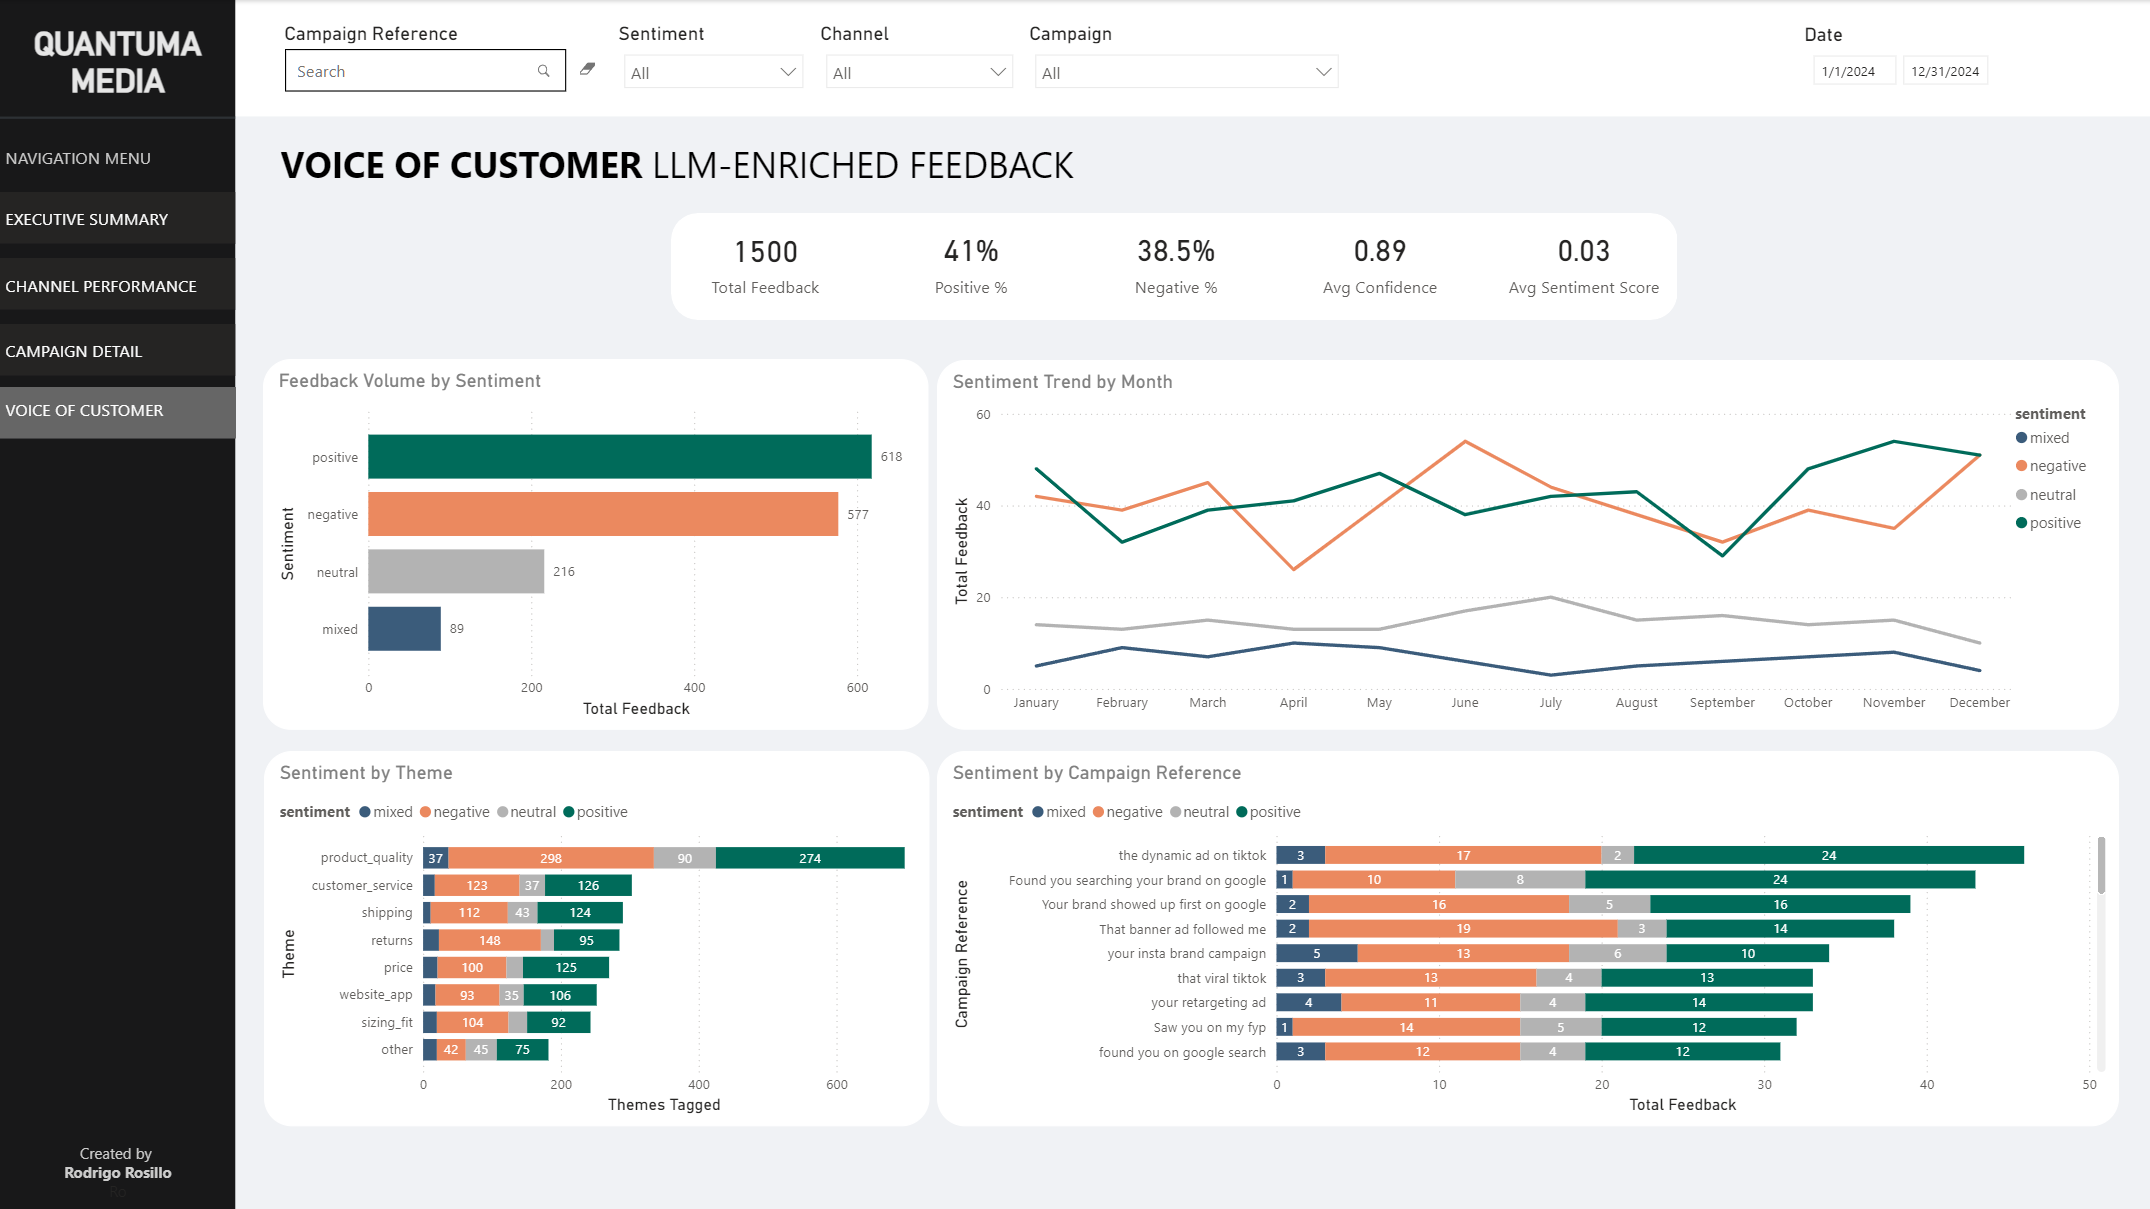

What the dashboard file says about the page in this screenshot:
{"tool":"powerbi","page":{"name":"Voice of customer","canvas":[1920,1080],"ordinal":3},"visuals":[{"type":"shape","box":[599.2,190.2,898.4,95.6],"z":0},{"type":"shape","box":[0,0,1920.6,103.9],"z":1000},{"type":"shape","box":[0,0,210.2,1080.3],"z":2000},{"type":"shape","box":[0,83.8,210.4,42.3],"z":3000},{"type":"textbox","box":[245.1,118.9,1330.8,63.6],"z":4000},{"type":"textFilter25A4896A83E0487089E2B90C9AE57C8A","title":"Campaign Reference","fields":{"field":["fct_feedback.campaign_reference"]},"box":[248.9,19.8,299,85.6],"z":5000},{"type":"slicer","title":"Sentiment","fields":{"Values":["fct_feedback.sentiment"]},"box":[547.5,19.8,179.9,72.5],"z":6000},{"type":"slicer","title":"Campaign","fields":{"Values":["fct_feedback.resolved_campaign_id"]},"box":[914.4,19.4,291.3,72.8],"z":7000},{"type":"slicer","title":"Channel","fields":{"Values":["fct_feedback.source_channel"]},"box":[727.3,19.4,187.1,72.8],"z":8000},{"type":"textbox","box":[0,124.6,210.5,34.2],"z":9000},{"type":"shape","box":[0,171.3,210.5,46],"z":10000},{"type":"textbox","title":"(2) Pages 1 - TXT 1","box":[0,179.7,210.6,37.1],"z":11000},{"type":"shape","box":[0,230.4,210.5,46],"z":12000},{"type":"textbox","title":"(2) Pages 1 - TXT 1","box":[0,238.8,210.6,37.1],"z":13000},{"type":"shape","title":"(2) Pages 2 - Click","box":[0,171.4,211.1,46.1],"z":14000},{"type":"shape","box":[0,289.1,210.5,46],"z":15000},{"type":"textbox","title":"(2) Pages 1 - TXT 1","box":[0,297.5,210.6,37.1],"z":16000},{"type":"shape","title":"(2) Pages 2 - Click","box":[0,228.5,209.8,47.3],"z":17000},{"type":"slicer","title":"Date","fields":{"Values":["FCT_AD_SPEND.DATE"]},"box":[1605.9,20.6,314.1,105],"z":18000},{"type":"textbox","box":[0,1015.5,210.5,64.5],"z":20000},{"type":"textbox","box":[0,0,210.2,105.1],"z":21000},{"type":"card","fields":{"Values":["fct_feedback.Positive %"]},"box":[781.7,185.5,169.9,94],"z":22000},{"type":"card","fields":{"Values":["fct_feedback.Total Feedback"]},"box":[599.2,184.4,168.6,96.1],"z":23000},{"type":"card","fields":{"Values":["fct_feedback.Negative %"]},"box":[965.6,184.6,168.1,95.8],"z":24000},{"type":"card","fields":{"Values":["fct_feedback.Avg Sentiment Confidence"]},"box":[1147.7,184.6,168.1,95.8],"z":25000},{"type":"card","fields":{"Values":["fct_feedback.Avg Sentiment Score"]},"box":[1329.8,184.7,168.2,95.6],"z":26000},{"type":"clusteredBarChart","title":"Feedback Volume by Sentiment","fields":{"Category":["fct_feedback.sentiment"],"Y":["fct_feedback.Total Feedback"]},"box":[234.7,320.2,594.5,330.6],"z":27000},{"type":"lineChart","title":"Sentiment Trend by Month","fields":{"Y":["fct_feedback.Total Feedback"],"Series":["fct_feedback.sentiment"],"Category":["fct_feedback.posted_date.Variation.Date Hierarchy.Month"]},"box":[836.4,321.2,1055.4,329.6],"z":28000},{"type":"barChart","title":"Sentiment by Theme","fields":{"Category":["fct_feedback_themes.theme"],"Series":["fct_feedback.sentiment"],"Y":["fct_feedback.Themes Tagged"]},"box":[235.7,670.6,594.5,334.8],"z":29000},{"type":"barChart","title":"Sentiment by Campaign Reference","fields":{"Category":["fct_feedback.campaign_reference"],"Y":["fct_feedback.Total Feedback"],"Series":["fct_feedback.sentiment"]},"box":[836.4,670.6,1055.4,334.8],"z":29001},{"type":"shape","box":[0,345.4,210.6,46.4],"z":29002},{"type":"textbox","title":"(2) Pages 1 - TXT 1","box":[0,349.9,210.6,37.5],"z":29003},{"type":"shape","title":"(2) Pages 2 - Click","box":[0,289.2,211.5,47.3],"z":29004}]}

Visuals, with their boxes in screenshot pixels (x1, y1, x2, y2), scaled from the page's 1920x1080 canvas onto the 2150x1209 screenshot:
shape: (671,213,1677,320)
shape: (0,0,2149,116)
shape: (0,0,235,1208)
shape: (0,94,236,141)
textbox: (274,133,1765,204)
"Campaign Reference" textFilter25A4896A83E0487089E2B90C9AE57C8A: (279,22,614,118)
"Sentiment" slicer: (613,22,815,103)
"Campaign" slicer: (1024,22,1350,103)
"Channel" slicer: (814,22,1024,103)
textbox: (0,139,236,178)
shape: (0,192,236,243)
"(2) Pages 1 - TXT 1" textbox: (0,201,236,243)
shape: (0,258,236,309)
"(2) Pages 1 - TXT 1" textbox: (0,267,236,309)
"(2) Pages 2 - Click" shape: (0,192,236,243)
shape: (0,324,236,375)
"(2) Pages 1 - TXT 1" textbox: (0,333,236,375)
"(2) Pages 2 - Click" shape: (0,256,235,309)
"Date" slicer: (1798,23,2149,141)
textbox: (0,1137,236,1208)
textbox: (0,0,235,118)
card - fct_feedback.Positive %: (875,208,1066,313)
card - fct_feedback.Total Feedback: (671,206,860,314)
card - fct_feedback.Negative %: (1081,207,1270,314)
card - fct_feedback.Avg Sentiment Confidence: (1285,207,1473,314)
card - fct_feedback.Avg Sentiment Score: (1489,207,1677,314)
"Feedback Volume by Sentiment" clusteredBarChart: (263,358,929,729)
"Sentiment Trend by Month" lineChart: (937,360,2118,729)
"Sentiment by Theme" barChart: (264,751,930,1125)
"Sentiment by Campaign Reference" barChart: (937,751,2118,1125)
shape: (0,387,236,439)
"(2) Pages 1 - TXT 1" textbox: (0,392,236,434)
"(2) Pages 2 - Click" shape: (0,324,237,377)
